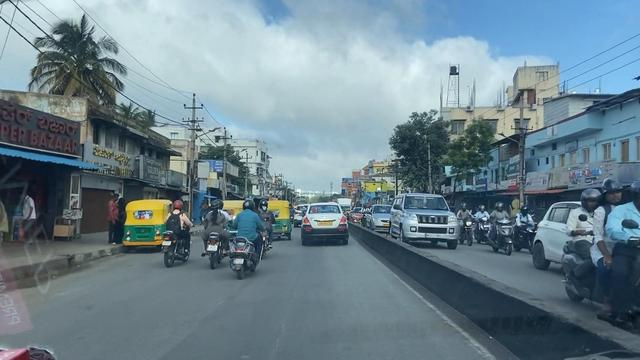LMV: (227, 196, 256, 284), (301, 202, 348, 247), (257, 198, 279, 268)
RoadDamages: (258, 302, 293, 356)
